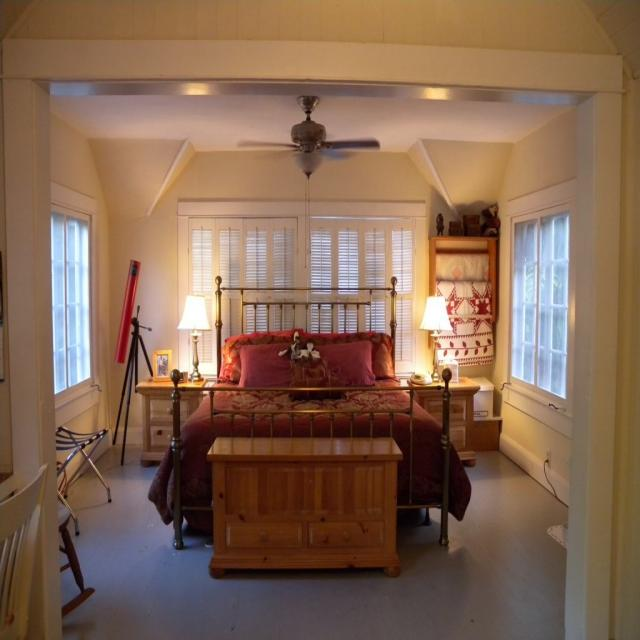Bulb: (235, 94, 380, 268)
